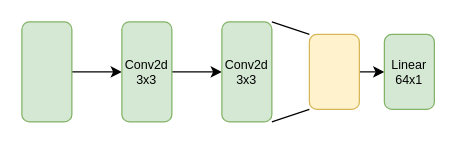
Image size: 456x145. Some labels were removed from this diagram. The centre of each missing label's shape, as x and y in pixels:
AvgPool: the point at 333,71
Conv2d 1x1: the point at 46,71
